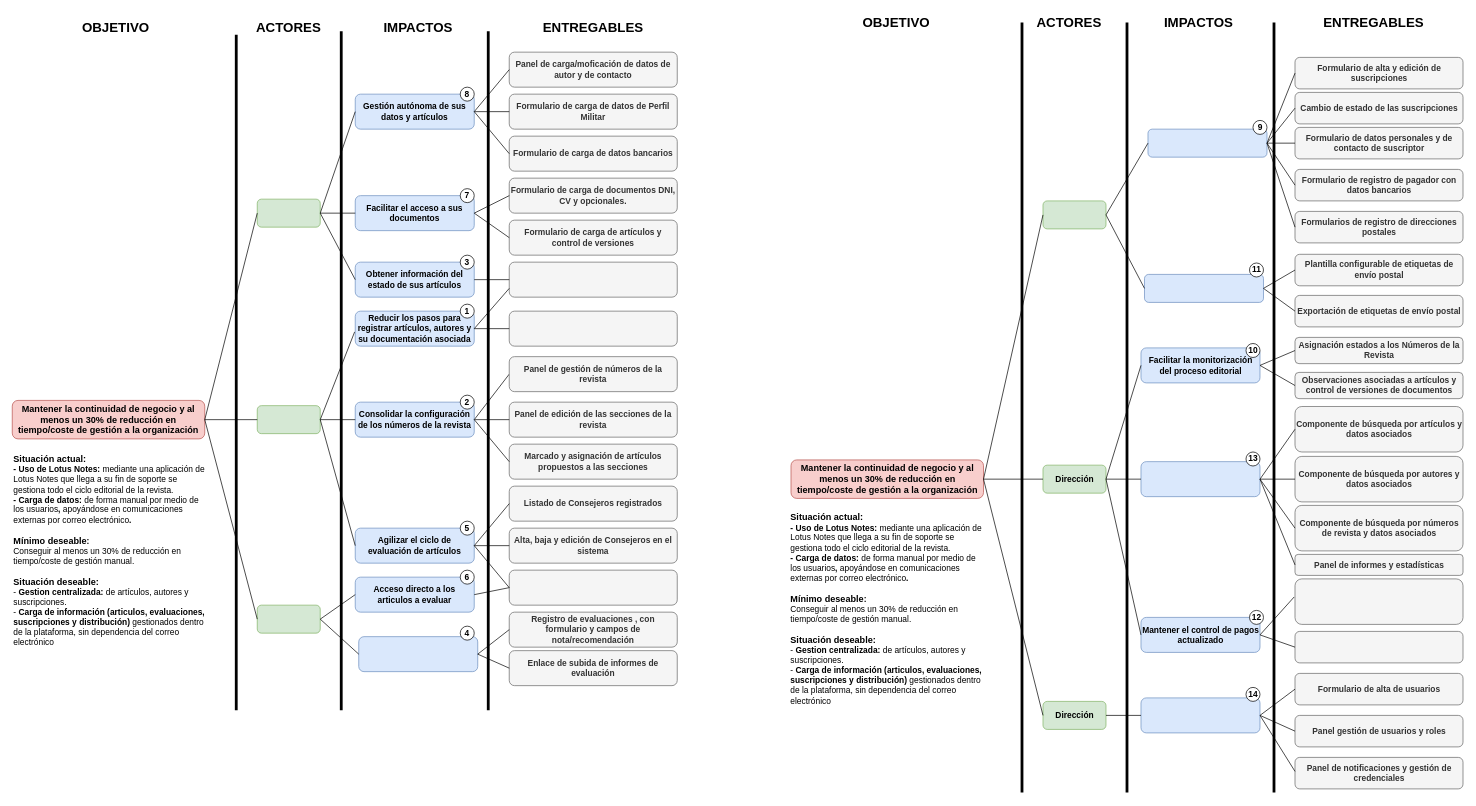
Image size: 1476x806. Some labels were removed from this diagram. Here are the shapes that lost their labels. From the top down, the centre of each, then its label:
(x=1207, y=142): Centralizar la gestión de suscripciones y suscriptores
(x=288, y=212): Autor
(x=1074, y=214): Distribuidor
(x=593, y=279): Vista de autor con artículos asociados, sus estados y observaciones
(x=1204, y=288): Reducción de etapas para la distribución física
(x=593, y=328): Edición de los estado de un artículo
(x=288, y=419): Redactor
(x=1200, y=479): Recibir información detallada sobre la revista
(x=593, y=587): Panel de consejeros con asignación de artículos
(x=1378, y=601): Plantilla de certificados de pago sobre artículos publicados
(x=288, y=618): Consejero
(x=418, y=654): Reducir los trámites de evaluación de artículos
(x=1378, y=647): Exportación de certificados de pago
(x=1200, y=715): Proveer de acceso a la plataforma a nuevos usuarios
